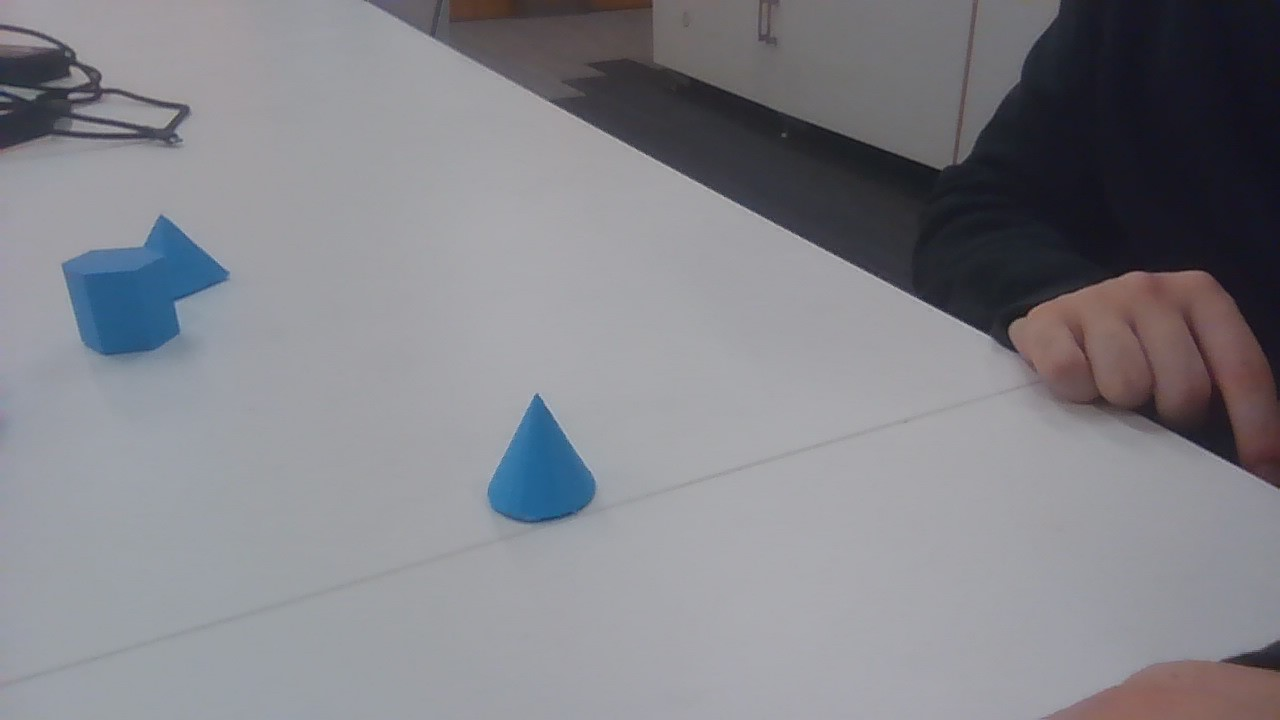cone: (488, 393, 596, 523)
